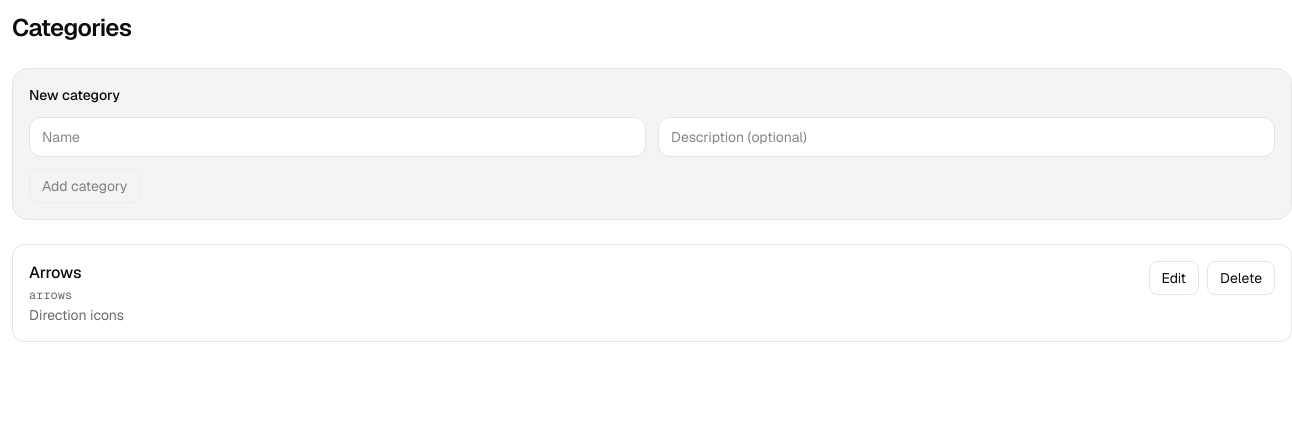
Scenario: <CategoriesAdmin /> › edits a category
This screenshot has width=1292, height=433.
Click the button with aria-label "Edit Arrows" at (1174, 278), box [1148,261,1199,295]
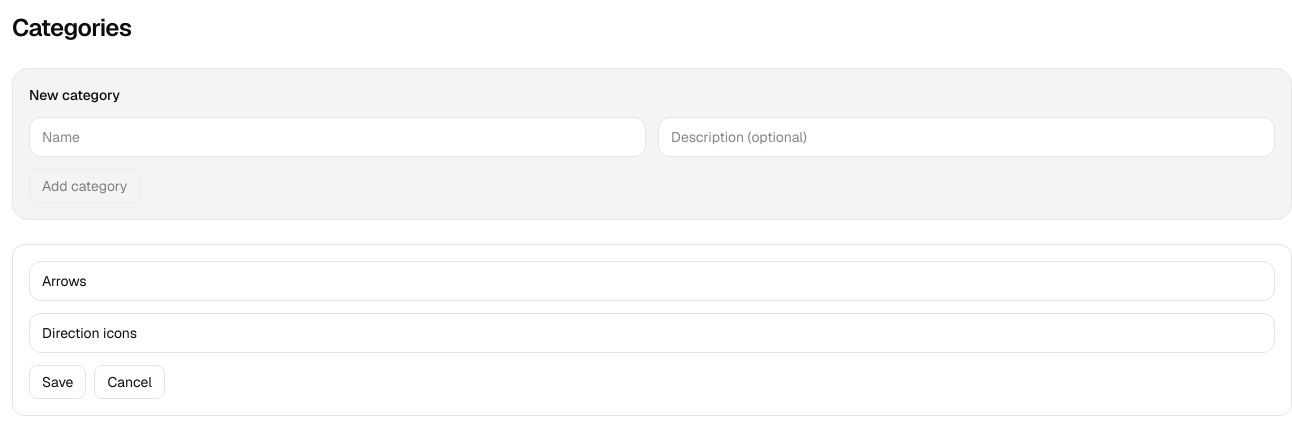
Replace the text in the field named "Edit name" with "Direction Arrows" at (652, 281), box [29,261,1275,301]
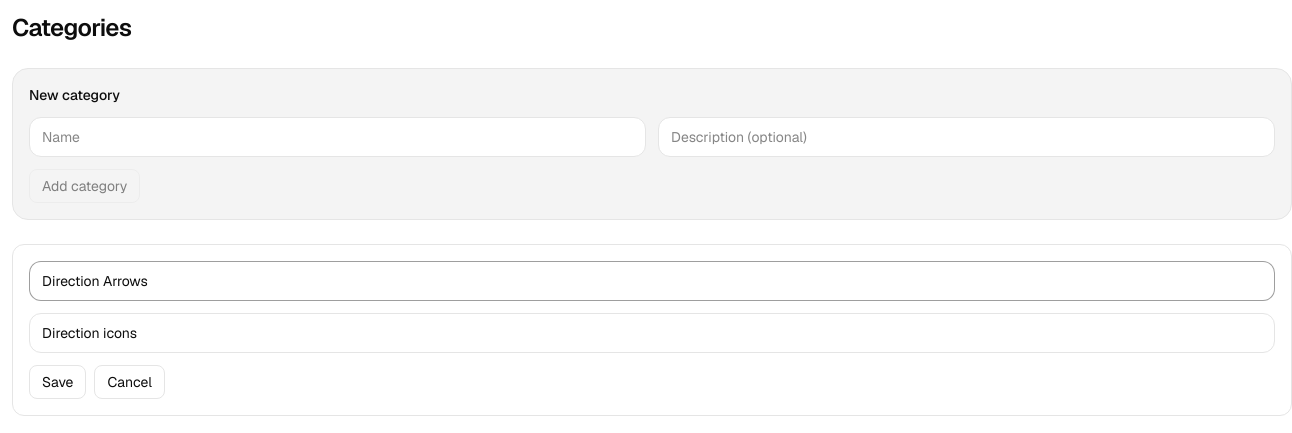
Click the button "Save" at (58, 382), box [29,365,86,399]
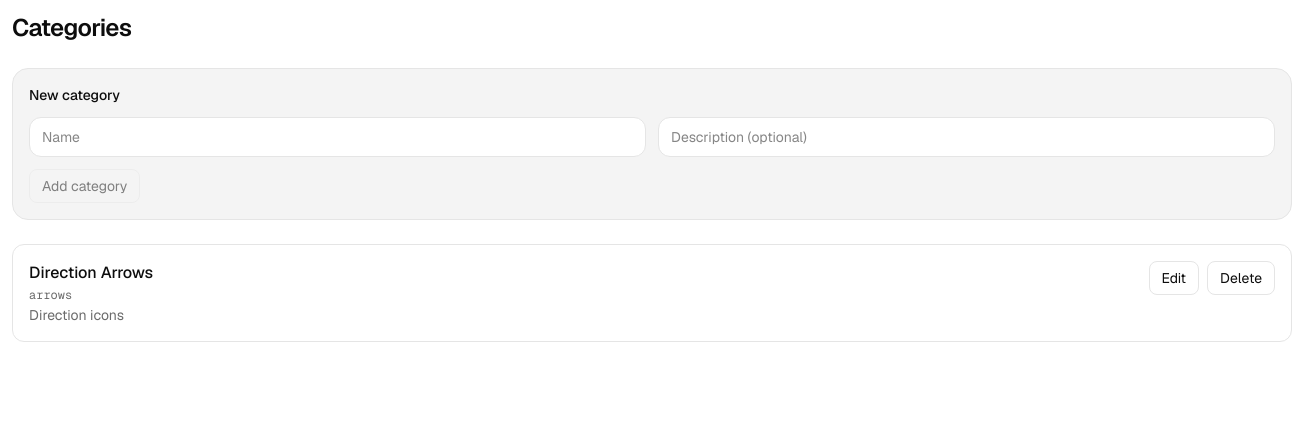
Check: the text "Direction Arrows" is shown, box [29,261,153,285]
